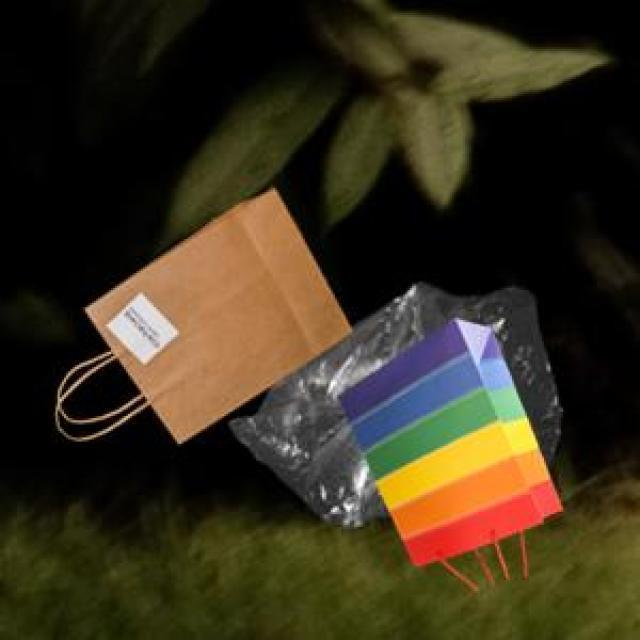paper: (81, 184, 348, 440), (333, 316, 557, 561)
